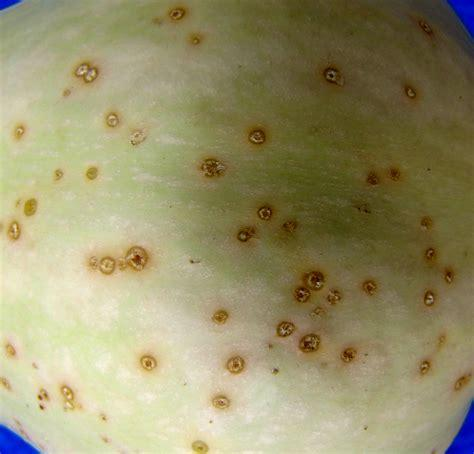black-spot: (30, 37, 394, 420)
